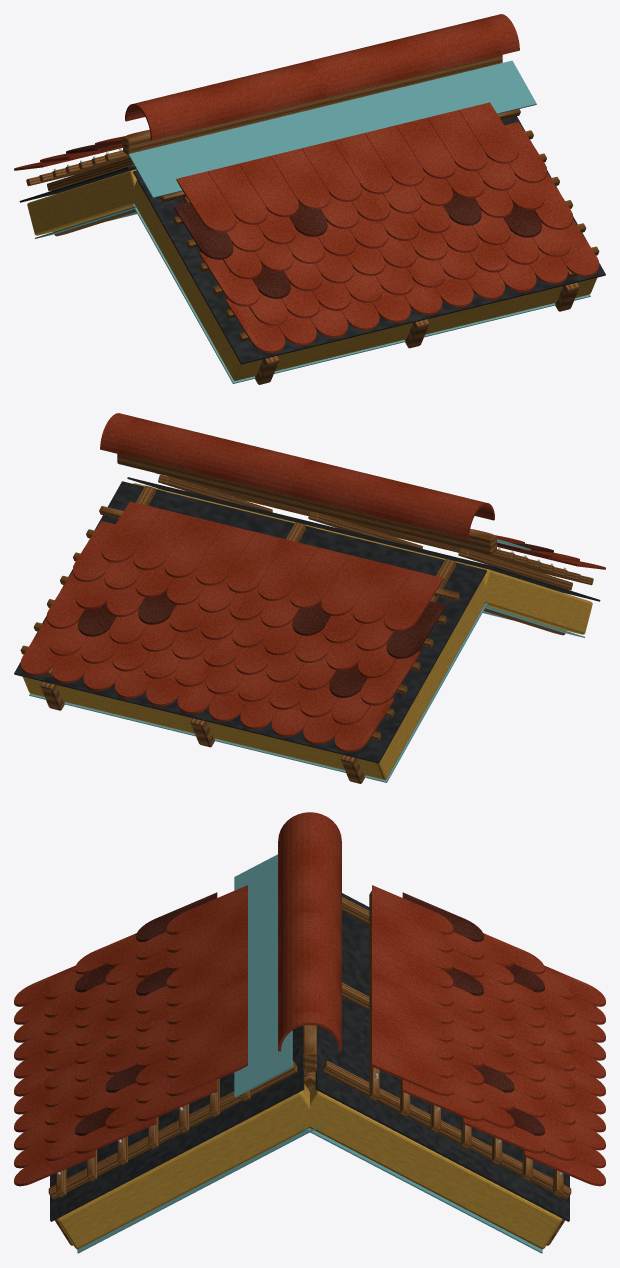
Rendered from modell.glb.
3 renders of one model, top to bottom at view 1: azimuth 30°, elevation 25°; view 2: azimuth 150°, elevation 25°; view 3: azimuth 270°, elevation 25°, orthographic. The views are drawn at different scales.
Visible parts, largest first — view 1: s05-deckziegel_deckung, s05-firstziegel_deckung, s05-anschluss_zusatzebene, s05-daemmung_daemmung, s05-zusatzebene_zusatzebene, s05-deckziegel_deckung.001, s05-firstlatte_lattung, s05-lattung_lattung, s05-luftdichtheit_luftdichtheit, s05-sparren_tragwerk; view 2: s05-deckziegel_deckung, s05-firstziegel_deckung, s05-zusatzebene_zusatzebene, s05-daemmung_daemmung, s05-lattung_lattung, s05-deckziegel_deckung.001, s05-firstlatte_lattung, s05-luftdichtheit_luftdichtheit, s05-sparren_tragwerk; view 3: s05-deckziegel_deckung, s05-daemmung_daemmung, s05-zusatzebene_zusatzebene, s05-firstziegel_deckung, s05-lattung_lattung, s05-anschluss_zusatzebene, s05-deckziegel_deckung.001, s05-luftdichtheit_luftdichtheit, s05-firstlatte_lattung.
Part boxes in pixels (x1,y1,x2,y2): s05-deckziegel_deckung: [14, 102, 599, 353]; s05-firstziegel_deckung: [125, 14, 519, 140]; s05-anschluss_zusatzebene: [128, 60, 536, 198]; s05-daemmung_daemmung: [27, 169, 596, 380]; s05-zusatzebene_zusatzebene: [19, 116, 605, 364]; s05-deckziegel_deckung.001: [66, 142, 541, 298]; s05-firstlatte_lattung: [123, 55, 502, 155]; s05-lattung_lattung: [26, 109, 599, 341]; s05-luftdichtheit_luftdichtheit: [35, 197, 590, 383]; s05-sparren_tragwerk: [54, 209, 579, 384]; s05-deckziegel_deckung: [20, 501, 605, 752]; s05-firstziegel_deckung: [100, 413, 494, 539]; s05-zusatzebene_zusatzebene: [14, 477, 600, 763]; s05-daemmung_daemmung: [23, 483, 592, 779]; s05-lattung_lattung: [20, 473, 593, 740]; s05-deckziegel_deckung.001: [78, 543, 553, 697]; s05-firstlatte_lattung: [117, 454, 496, 554]; s05-luftdichtheit_luftdichtheit: [29, 597, 584, 782]; s05-sparren_tragwerk: [40, 489, 565, 783]; s05-deckziegel_deckung: [14, 885, 605, 1186]; s05-daemmung_daemmung: [57, 1071, 562, 1249]; s05-zusatzebene_zusatzebene: [50, 893, 569, 1221]; s05-firstziegel_deckung: [278, 812, 341, 1051]; s05-lattung_lattung: [48, 891, 571, 1199]; s05-anschluss_zusatzebene: [234, 854, 292, 1097]; s05-deckziegel_deckung.001: [75, 892, 544, 1135]; s05-luftdichtheit_luftdichtheit: [77, 1124, 542, 1253]; s05-firstlatte_lattung: [303, 1025, 316, 1071].
Size of the model in its own units: 2.21 by 1.15 by 2.51.
7 materials, 5 textured.
